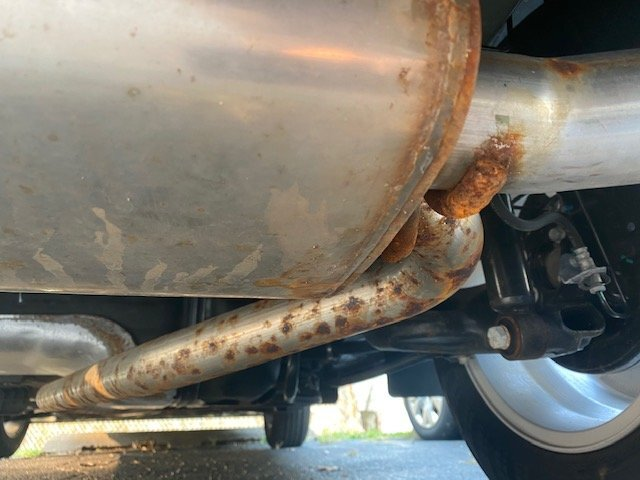Low: (70, 263, 443, 402), (412, 1, 524, 311)
